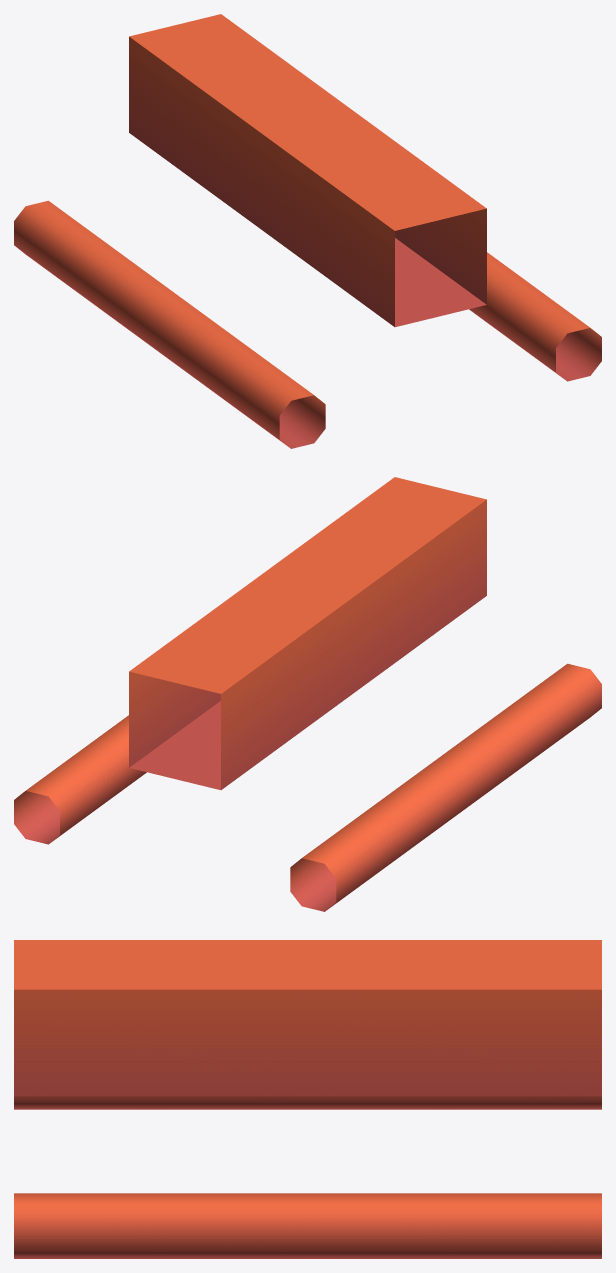
Rendered from coaster-hanging-track.glb.
The picture shows the model from 3 angles, top to bottom: view 1: azimuth 30°, elevation 25°; view 2: azimuth 150°, elevation 25°; view 3: azimuth 270°, elevation 25°; orthographic projection. The views are drawn at different scales.
Visible parts, largest first — view 1: coaster-hanging-track; view 2: coaster-hanging-track; view 3: coaster-hanging-track.
Part boxes in pixels (x1,y1,x2,y2): coaster-hanging-track: (14,14,601,448); coaster-hanging-track: (14,477,601,911); coaster-hanging-track: (14,940,601,1258).
Bounding box in the file's own units: 0.7 × 0.4 × 1.
1 material, 1 textured.
